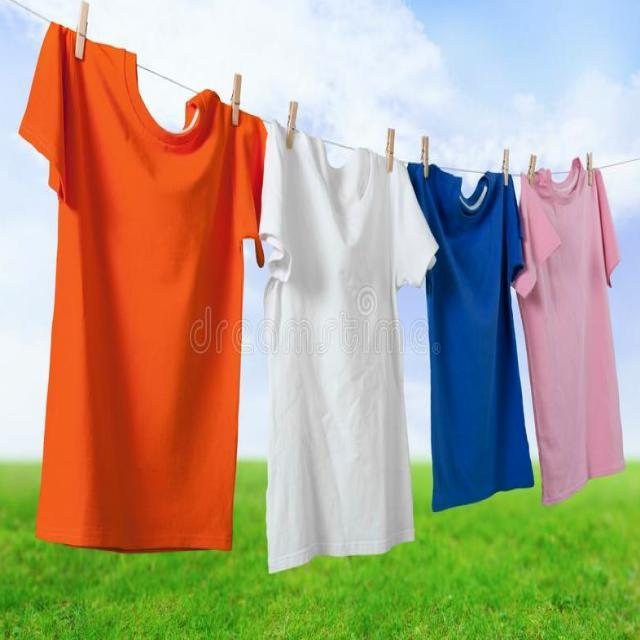clothes: (25, 0, 248, 567), (253, 98, 428, 563), (408, 141, 534, 511), (518, 162, 628, 500)
